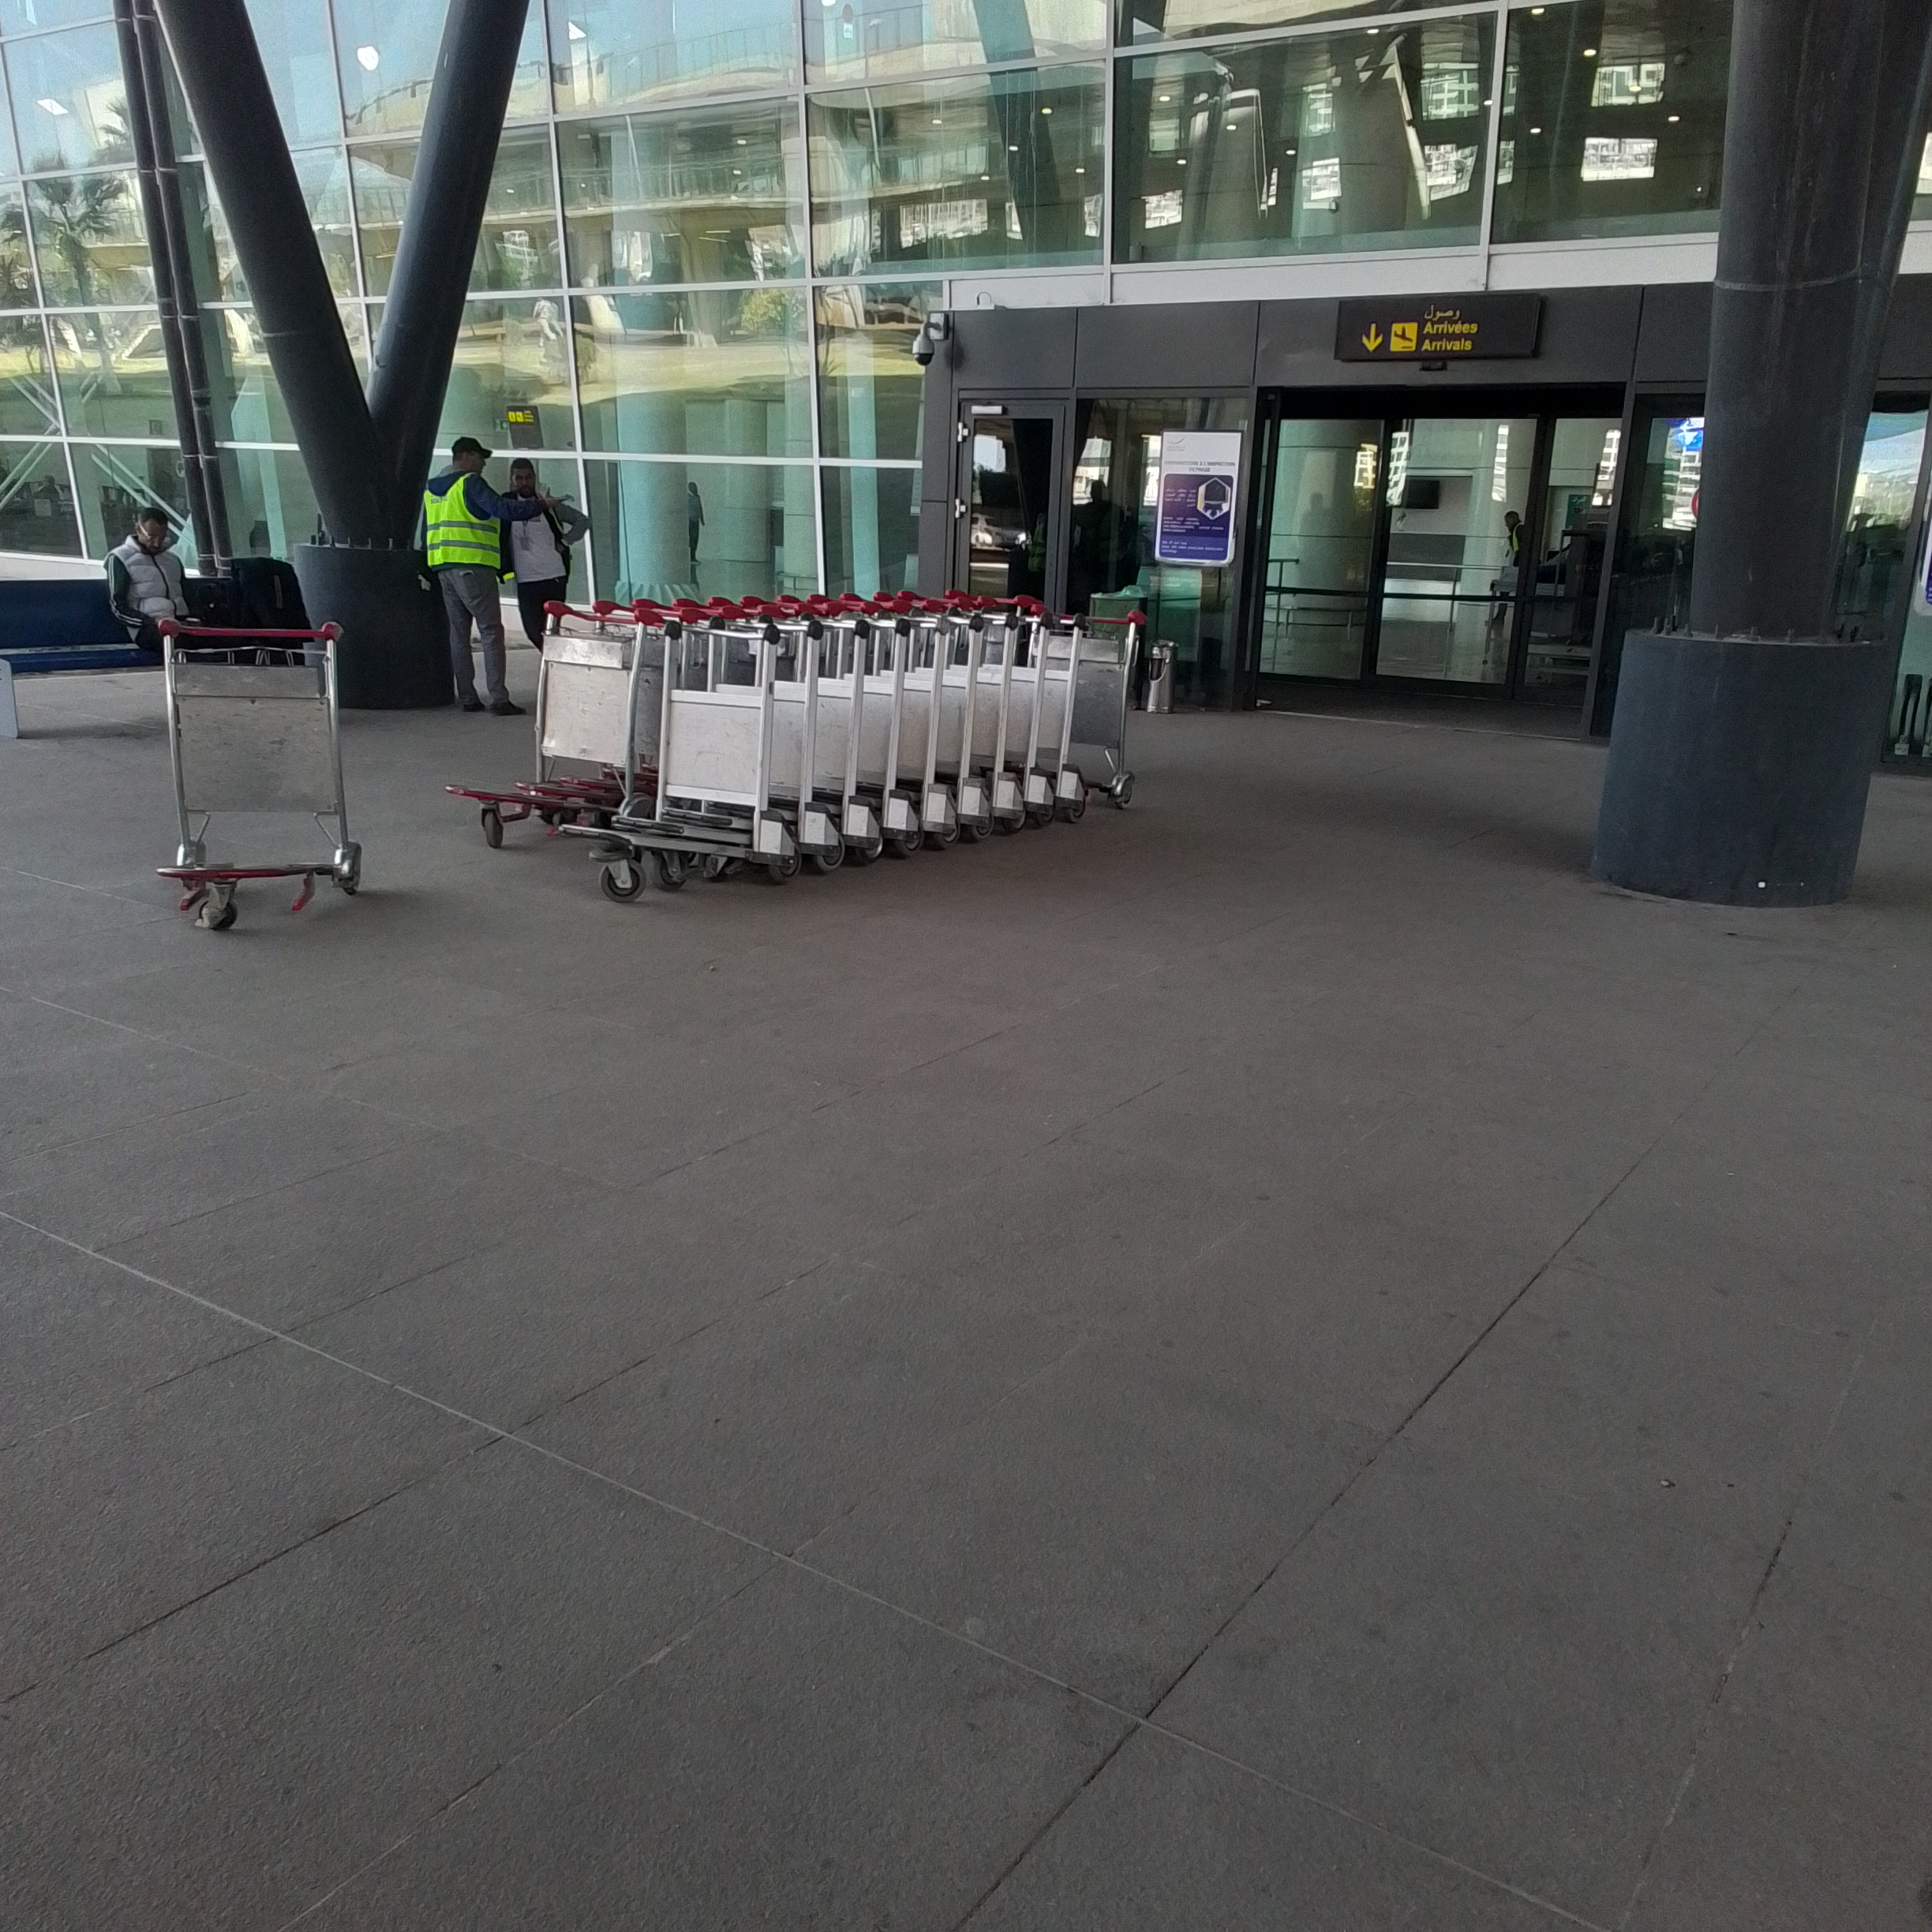airport-trolley: (563, 617, 794, 890), (156, 626, 354, 929), (448, 600, 653, 839), (697, 610, 830, 890), (809, 610, 893, 867), (862, 612, 929, 867), (1070, 610, 1141, 819), (936, 603, 998, 840), (1030, 603, 1085, 835), (980, 591, 1028, 849), (909, 607, 959, 855), (1001, 594, 1047, 839)
